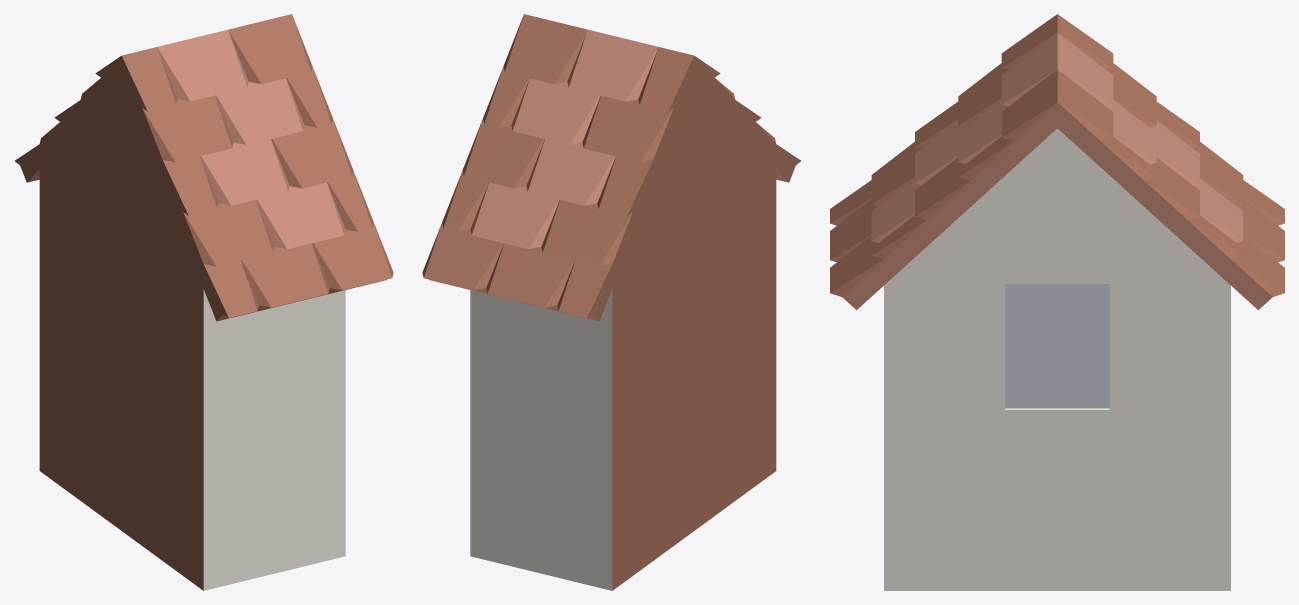
Rendered from object5_023-col.gltf.
The picture shows the model from 3 angles, left to right: view 1: azimuth 30°, elevation 25°; view 2: azimuth 150°, elevation 25°; view 3: azimuth 270°, elevation 25°; orthographic projection. The views are drawn at different scales.
Parts seen in each view (by area): view 1: object5.023-col; view 2: object5.023-col; view 3: object5.023-col.
Part boxes in pixels (x1,y1,x2,y2): object5.023-col: (15, 14, 393, 590); object5.023-col: (422, 14, 800, 590); object5.023-col: (830, 14, 1284, 590).
Bounding box in the file's own units: 1.2 × 3.2 × 2.62.
